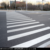zebra: (6, 10, 50, 50)
